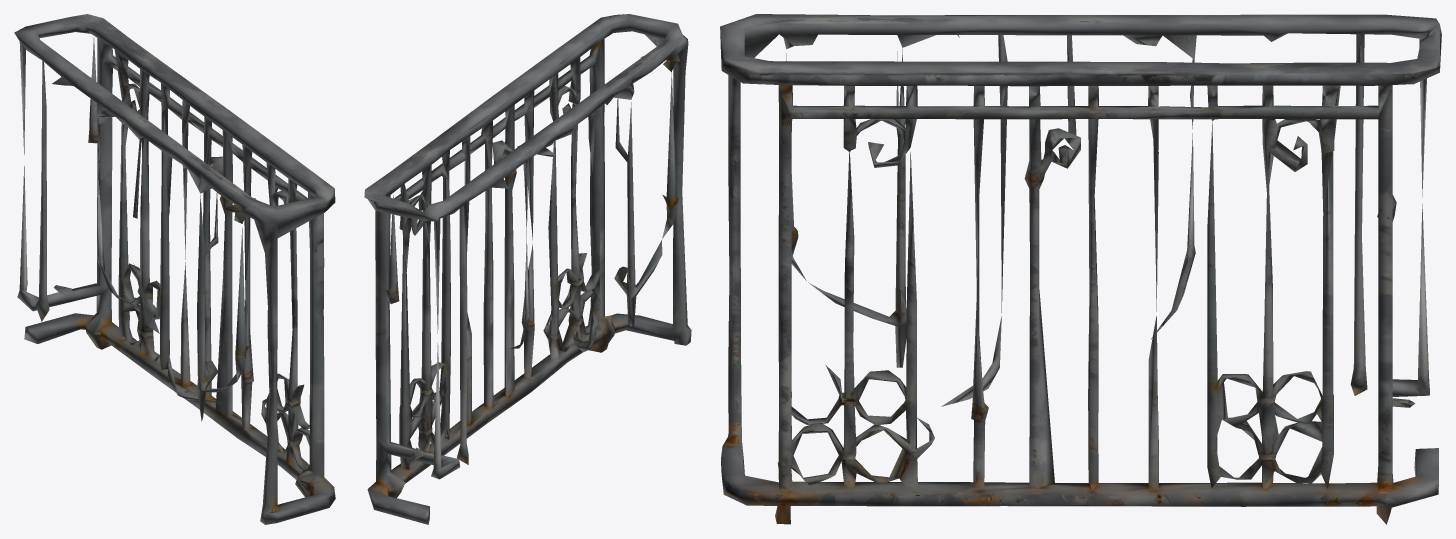
3 renders of one model, left to right at view 1: azimuth 30°, elevation 25°; view 2: azimuth 150°, elevation 25°; view 3: azimuth 270°, elevation 25°, orthographic. The views are drawn at different scales.
Visible parts, largest first — view 1: tripo_node_b62b506b-603a-44c0-9fe0-1b351592bc12; view 2: tripo_node_b62b506b-603a-44c0-9fe0-1b351592bc12; view 3: tripo_node_b62b506b-603a-44c0-9fe0-1b351592bc12.
Boxes of the visible parts, x1=… form: tripo_node_b62b506b-603a-44c0-9fe0-1b351592bc12: x1=14, y1=14, x2=335, y2=524; tripo_node_b62b506b-603a-44c0-9fe0-1b351592bc12: x1=364, y1=14, x2=691, y2=524; tripo_node_b62b506b-603a-44c0-9fe0-1b351592bc12: x1=720, y1=14, x2=1441, y2=524.
Size of the model in its own units: 0.2233 by 0.6957 by 1.
1 material, 1 textured.
